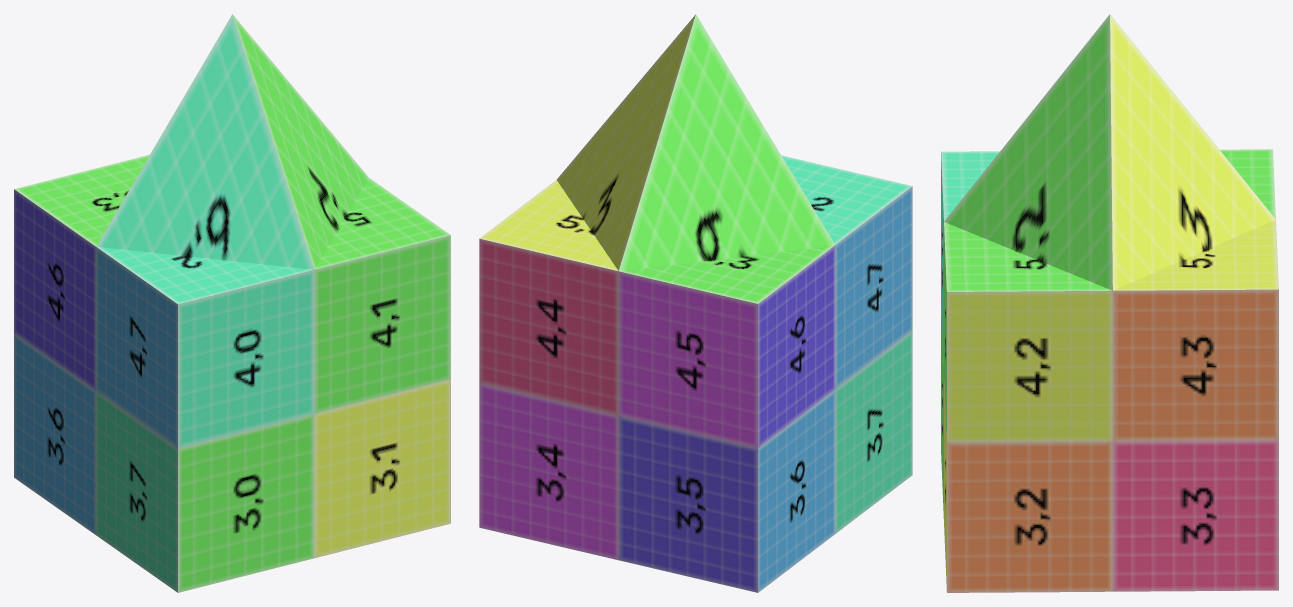
The model's file is HOUSE.obj.
3 renders of one model, left to right at view 1: azimuth 30°, elevation 25°; view 2: azimuth 150°, elevation 25°; view 3: azimuth 270°, elevation 25°, orthographic. The views are drawn at different scales.
Visible parts, largest first — view 1: HOUSE_HOUSE_HOUSE_立方体.001; view 2: HOUSE_HOUSE_HOUSE_立方体.001; view 3: HOUSE_HOUSE_HOUSE_立方体.001.
Boxes of the visible parts, box(x1,y1,x2,y2) form: HOUSE_HOUSE_HOUSE_立方体.001: box(14, 14, 450, 592); HOUSE_HOUSE_HOUSE_立方体.001: box(479, 14, 912, 592); HOUSE_HOUSE_HOUSE_立方体.001: box(941, 14, 1278, 592).
Bounding box in the file's own units: 8.14 × 13.49 × 8.14.
